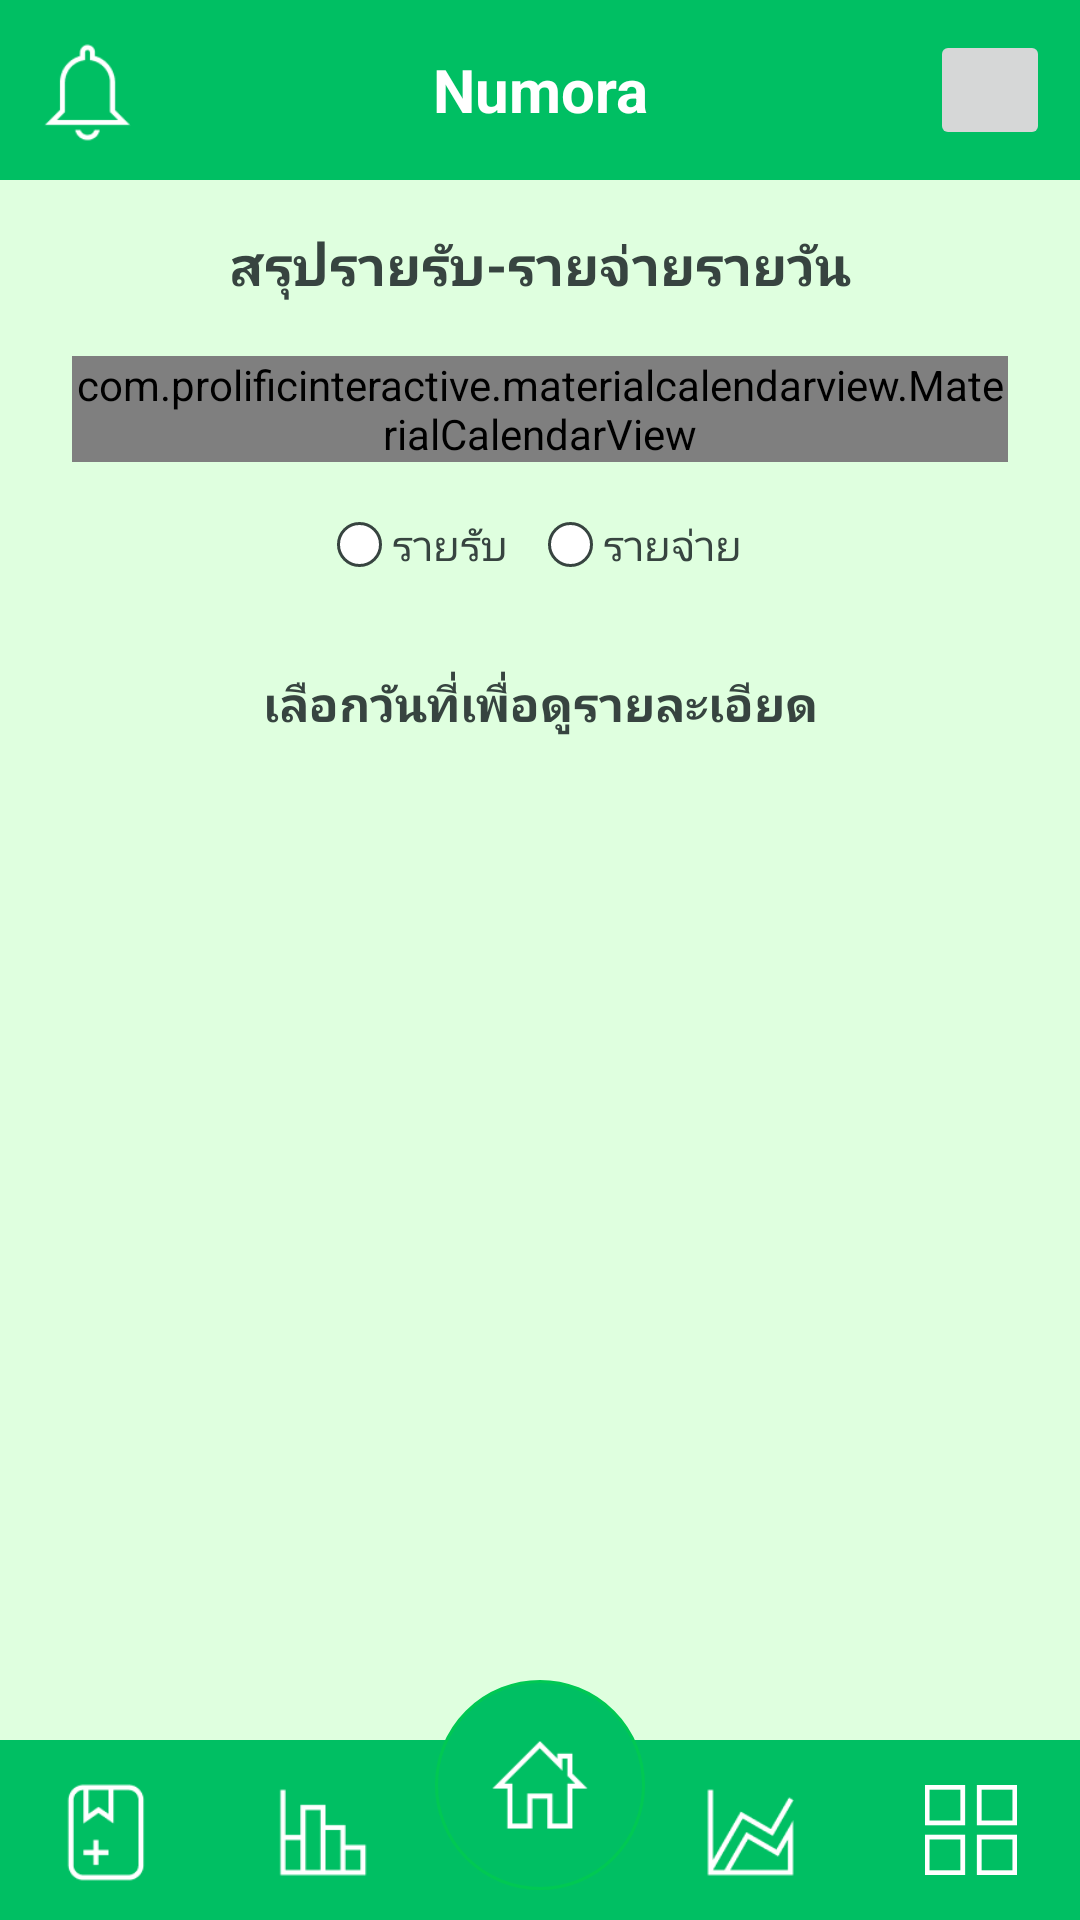

Screen size 1080px×1920px. Icon name, then its center in pixels as (x,y):
graph: (750,1832)
grid: (971,1830)
home: (539,1785)
note: (105,1832)
notifications: (87,92)
stats: (323,1832)
